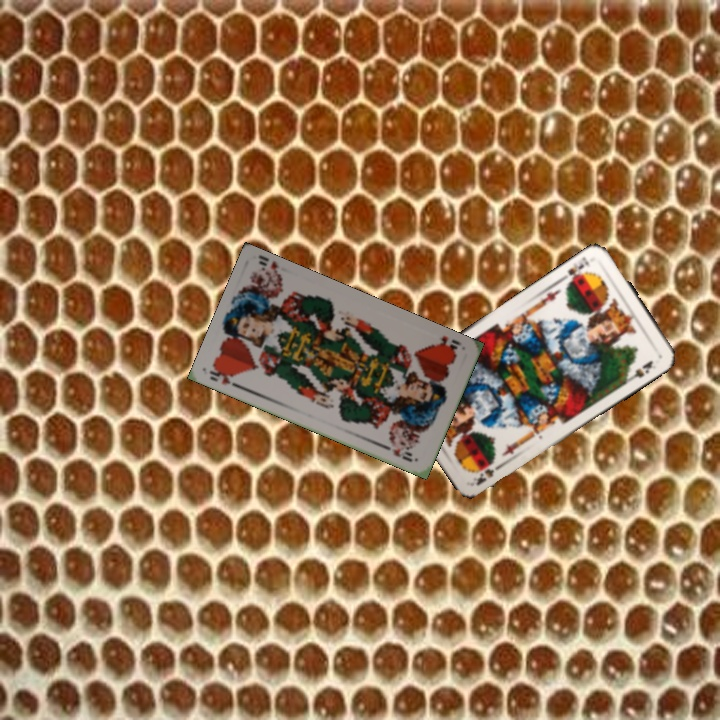HO: (206, 363, 244, 391), (432, 332, 464, 357)
SK: (472, 459, 507, 488), (563, 253, 591, 287)
